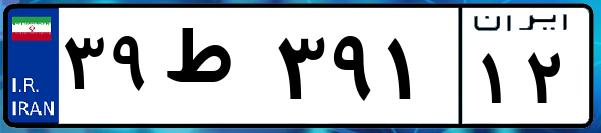1: (385, 28, 445, 110), (475, 38, 525, 113)
2: (525, 38, 570, 115)
3: (270, 28, 330, 110), (57, 26, 110, 100)
9: (330, 28, 385, 110), (110, 28, 158, 98)
ط: (158, 20, 270, 120)
